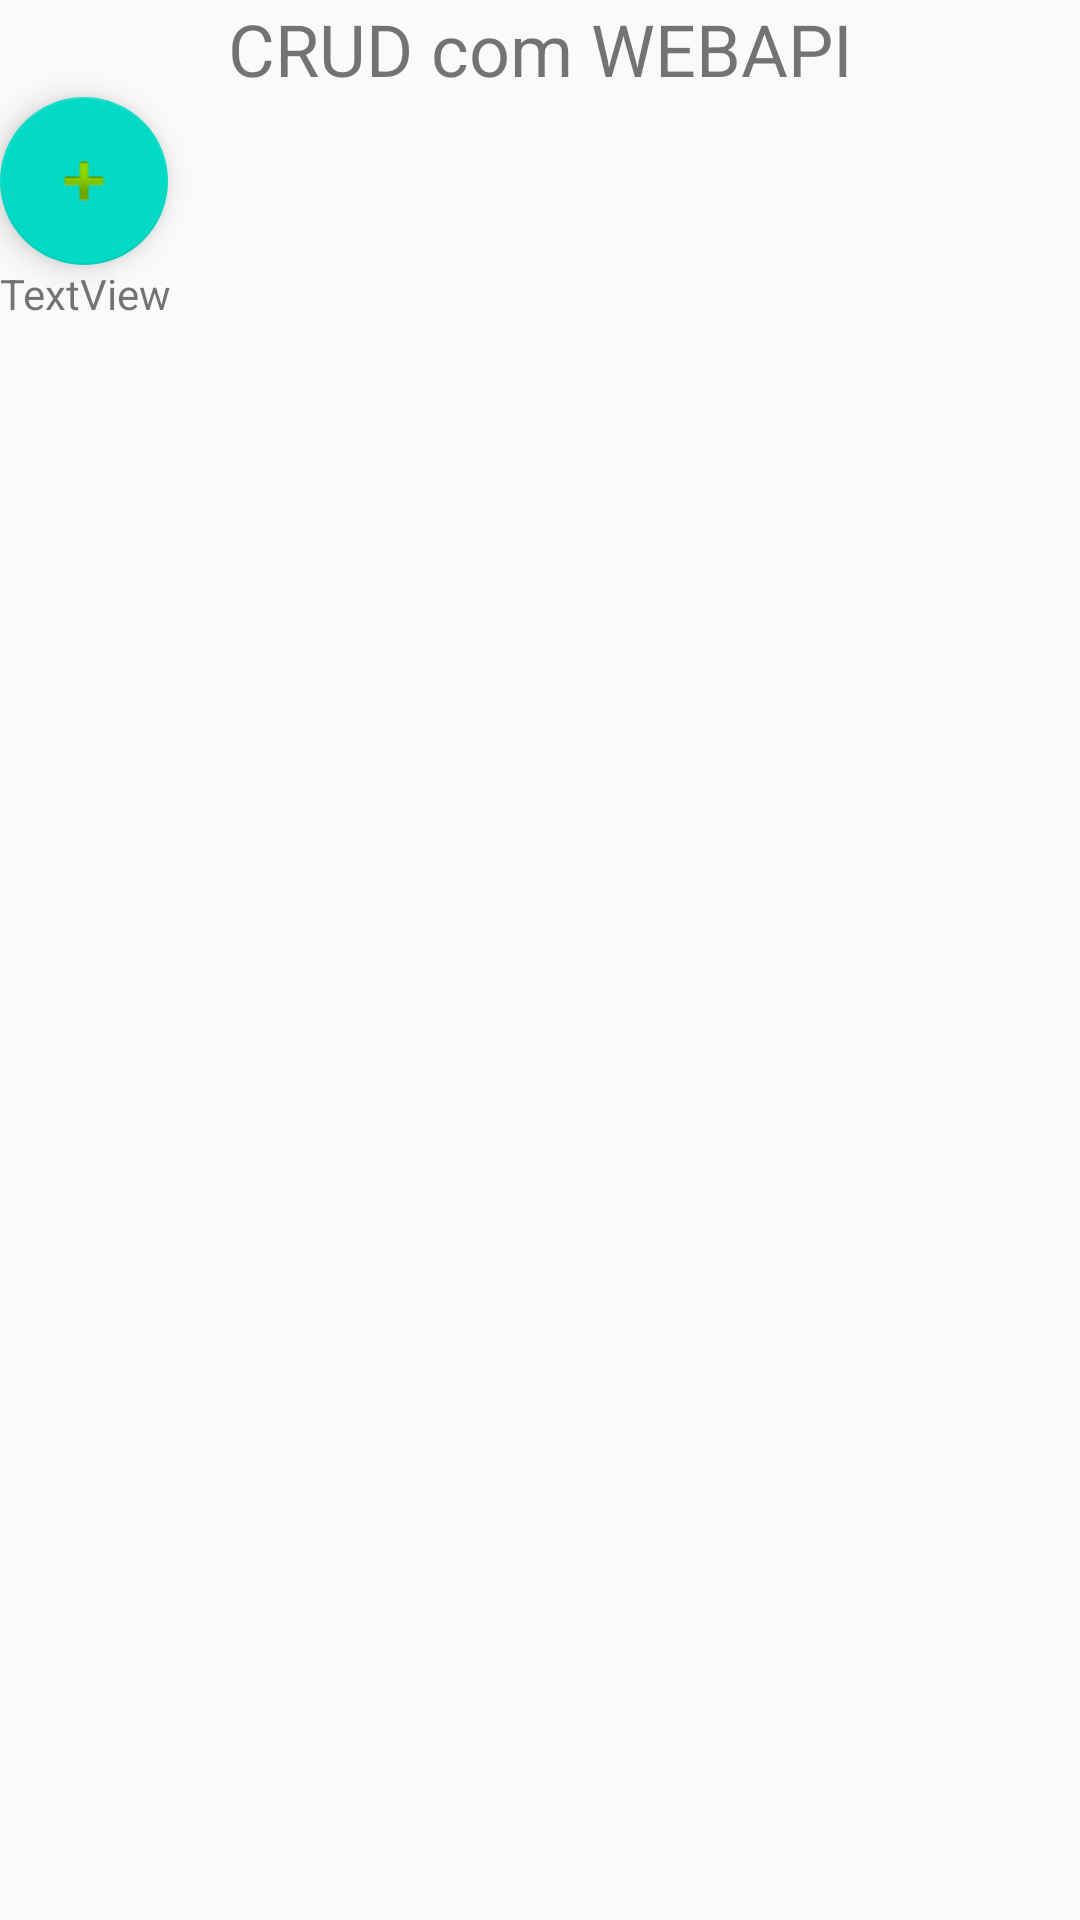

Screen size 1080px×1920px. Icon name, then its center in pixels as [x,y]:
add: [84,181]
